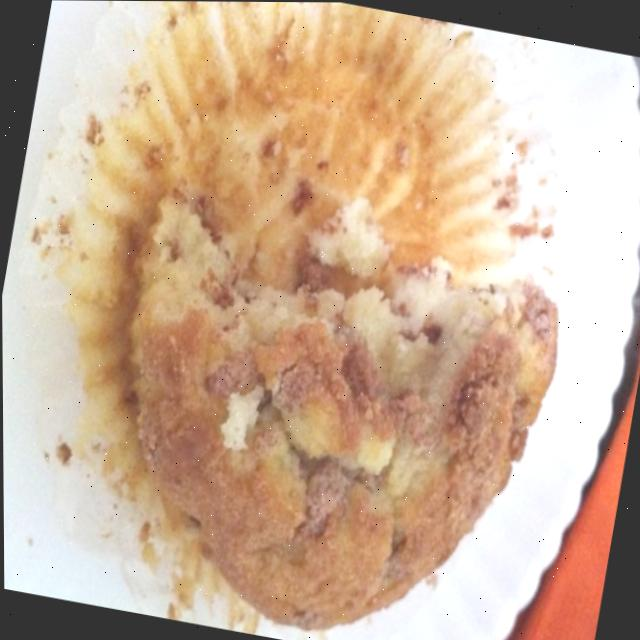炸货点心: (0, 1, 640, 640)
面包点心: (0, 1, 640, 640)
